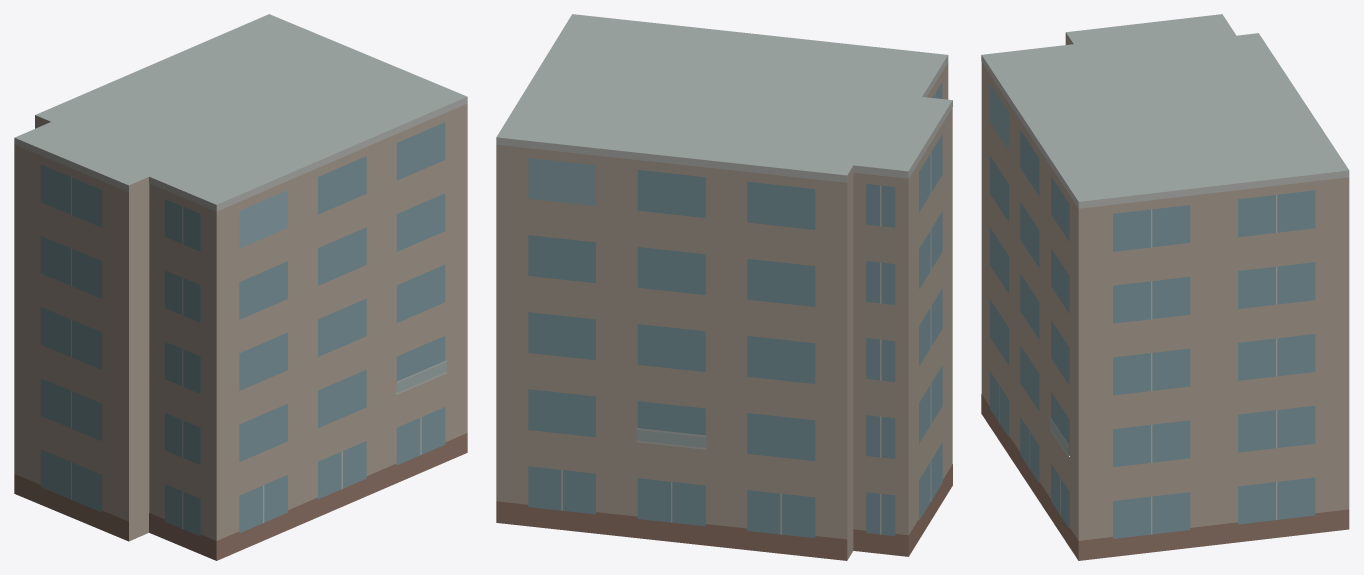
File: survey-upis-32808160.glb
3 renders of one model, left to right at view 1: azimuth 30°, elevation 25°; view 2: azimuth 150°, elevation 25°; view 3: azimuth 270°, elevation 25°, orthographic. The views are drawn at different scales.
Parts seen in each view (by area): view 1: survey-upis-32808160.tmp; view 2: survey-upis-32808160.tmp; view 3: survey-upis-32808160.tmp.
Boxes of the visible parts, x1,y1,x2,y2 form: survey-upis-32808160.tmp: [14, 14, 467, 560]; survey-upis-32808160.tmp: [496, 14, 952, 560]; survey-upis-32808160.tmp: [981, 14, 1349, 560].
Size of the model in its own units: 14.51 by 12.91 by 12.
